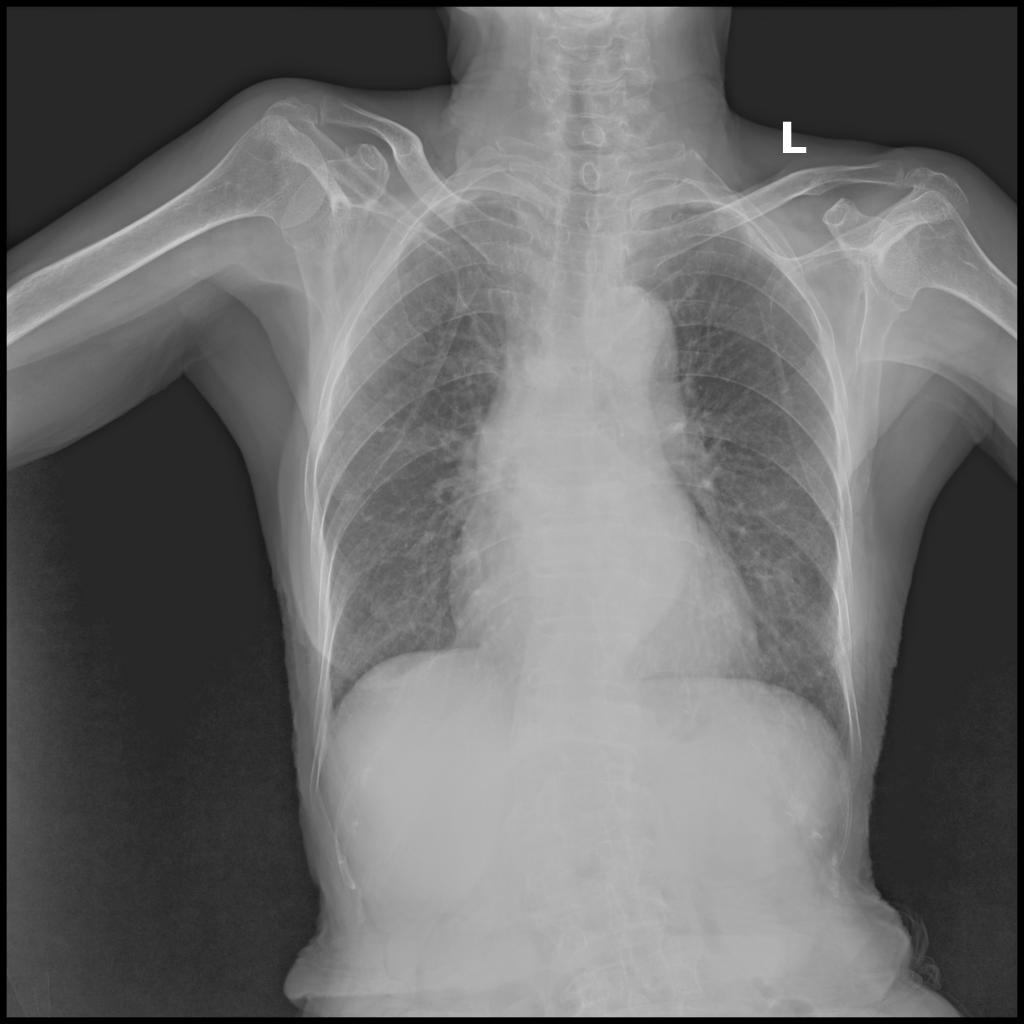Nodule: (370, 600, 390, 621)
